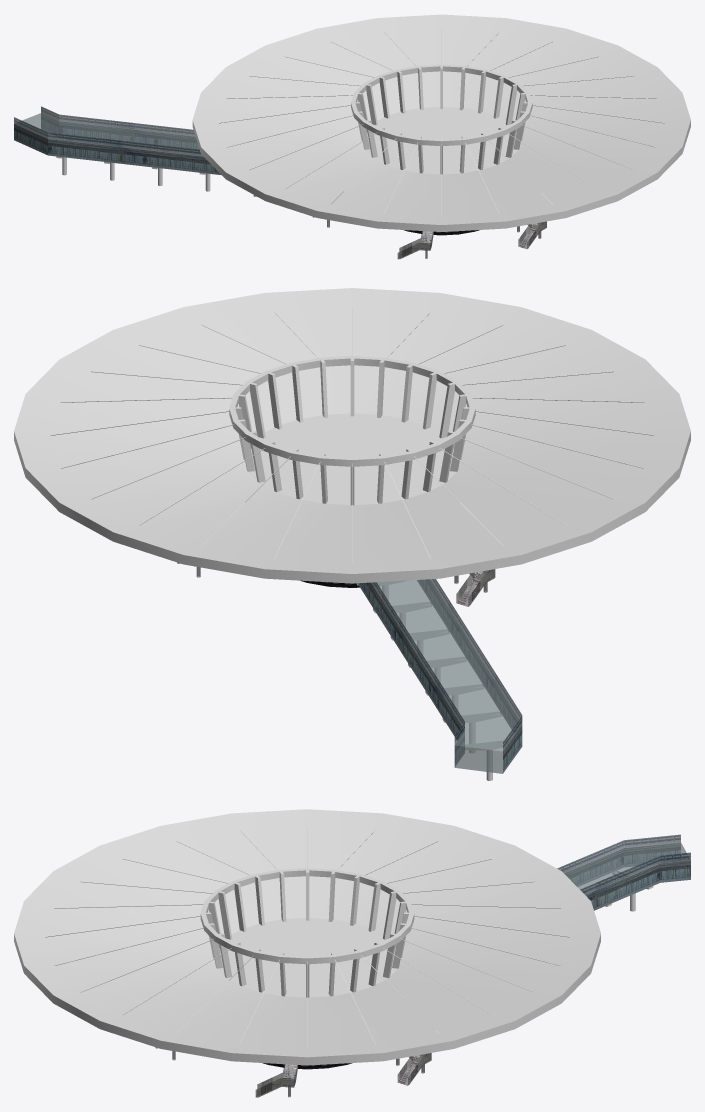
Rendered from Tarelka.fbx.
The picture shows the model from 3 angles, top to bottom: view 1: azimuth 30°, elevation 25°; view 2: azimuth 150°, elevation 25°; view 3: azimuth 270°, elevation 25°; orthographic projection. The views are drawn at different scales.
Parts seen in each view (by area): view 1: svo1_01, corridor_side, corridor_side12, stairs1_5, stairs1_4, ceiling1_20_2, ceiling1_23_2; view 2: svo1_01, corridor_side12, corridor_side, stairs1_3; view 3: svo1_01, corridor_side12, corridor_side, stairs1, stairs1_2, ceiling1_14_2, ceiling1_20_2, ceiling1_19_2, ceiling1_21_2.
Part boxes in pixels (left/top/right/bottom): svo1_01: left=14, top=14, right=690, bottom=231; corridor_side: left=48, top=132, right=220, bottom=174; corridor_side12: left=59, top=114, right=199, bottom=149; stairs1_5: left=397, top=231, right=433, bottom=259; stairs1_4: left=517, top=221, right=546, bottom=249; ceiling1_20_2: left=249, top=76, right=377, bottom=125; ceiling1_23_2: left=505, top=76, right=634, bottom=125; svo1_01: left=14, top=288, right=690, bottom=773; corridor_side12: left=357, top=582, right=464, bottom=740; corridor_side: left=417, top=579, right=521, bottom=729; stairs1_3: left=454, top=569, right=495, bottom=606; svo1_01: left=14, top=809, right=690, bottom=1065; corridor_side12: left=580, top=856, right=660, bottom=910; corridor_side: left=557, top=840, right=623, bottom=886; stairs1: left=255, top=1064, right=298, bottom=1097; stairs1_2: left=396, top=1053, right=431, bottom=1085; ceiling1_14_2: left=80, top=881, right=232, bottom=939; ceiling1_20_2: left=383, top=881, right=534, bottom=939; ceiling1_19_2: left=368, top=858, right=492, bottom=931; ceiling1_21_2: left=122, top=858, right=246, bottom=931.
Size of the model in its own units: 102 by 22.9 by 104.
8 materials, 8 textured.
